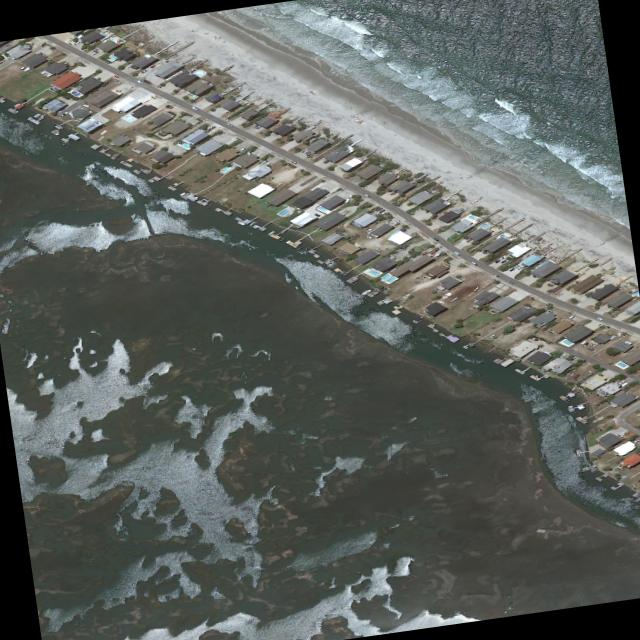ship: (361, 289, 373, 295), (59, 111, 70, 117), (580, 340, 588, 345), (365, 228, 373, 233), (81, 104, 91, 108), (488, 334, 497, 338), (621, 382, 628, 387)
small-vehicle: (276, 182, 285, 187), (363, 193, 372, 198), (420, 251, 428, 256), (430, 250, 438, 255), (454, 251, 462, 256), (568, 314, 576, 319), (239, 146, 247, 151), (375, 207, 383, 212), (225, 123, 234, 127), (208, 126, 217, 130), (500, 255, 507, 260), (65, 41, 73, 45), (313, 213, 321, 217), (471, 261, 479, 265), (141, 69, 149, 73), (261, 160, 269, 164), (434, 237, 440, 242), (92, 51, 99, 55), (113, 74, 120, 78), (351, 233, 358, 237), (366, 235, 373, 239), (360, 247, 367, 251), (514, 264, 521, 268), (494, 260, 501, 264), (560, 354, 567, 358), (619, 380, 626, 384), (633, 439, 640, 443), (222, 117, 229, 121), (127, 64, 134, 68), (306, 152, 313, 156), (378, 209, 385, 213), (508, 281, 514, 285), (621, 433, 627, 437), (137, 81, 145, 84), (191, 107, 199, 110), (256, 125, 262, 129), (395, 220, 403, 223), (267, 161, 273, 165), (269, 176, 275, 180), (374, 248, 381, 251), (494, 274, 501, 277), (517, 266, 524, 269), (597, 317, 604, 320), (395, 223, 402, 226), (252, 124, 259, 127), (291, 161, 298, 164), (381, 211, 388, 214), (584, 343, 589, 347), (618, 333, 623, 337), (79, 105, 84, 109), (76, 41, 82, 44), (501, 260, 507, 263), (150, 65, 156, 68), (305, 151, 311, 154), (374, 213, 380, 216), (387, 219, 393, 222), (84, 43, 90, 45), (510, 269, 515, 271), (350, 195, 352, 199)
